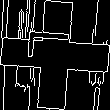L_E: (28, 38, 82, 72)
